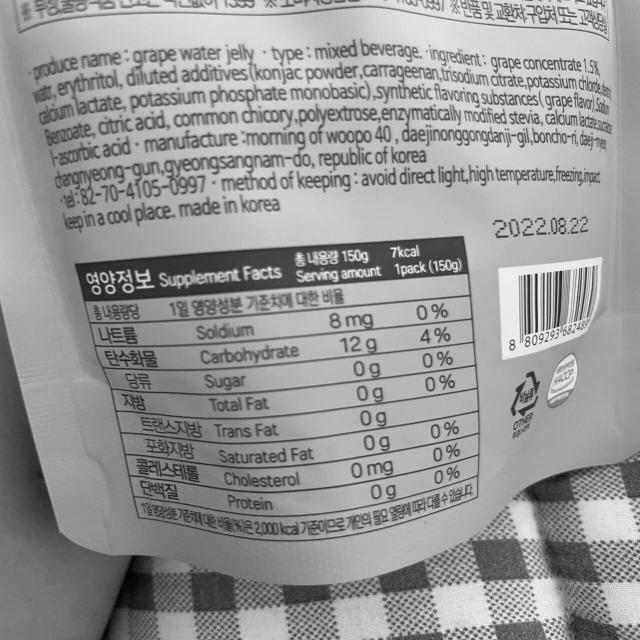Nutrition Label: (67, 234, 504, 544)
